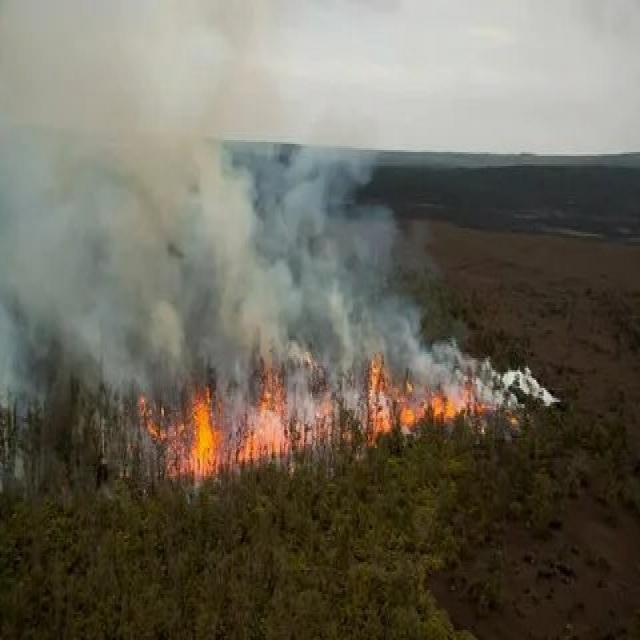Fire: (114, 334, 478, 480)
Smoke: (0, 0, 432, 366)
